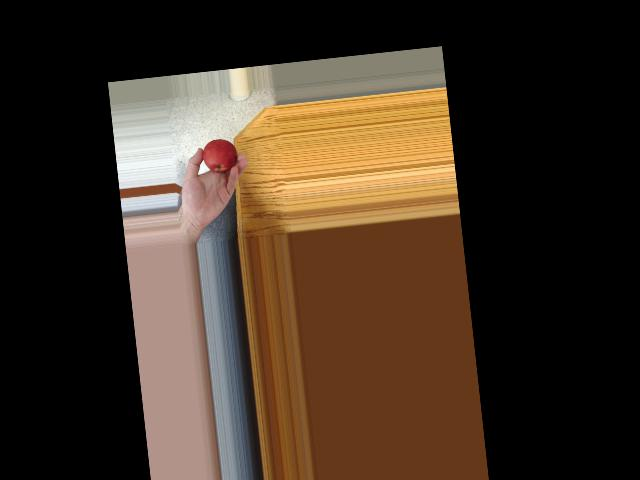apple: (202, 135, 239, 173)
